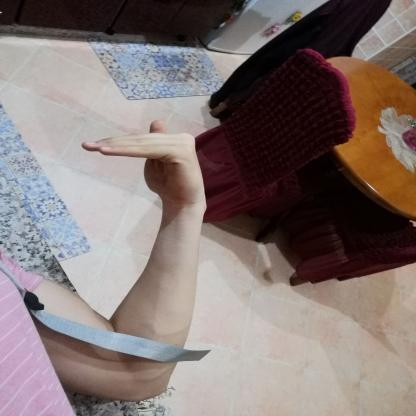KHAA: (69, 110, 221, 216)
